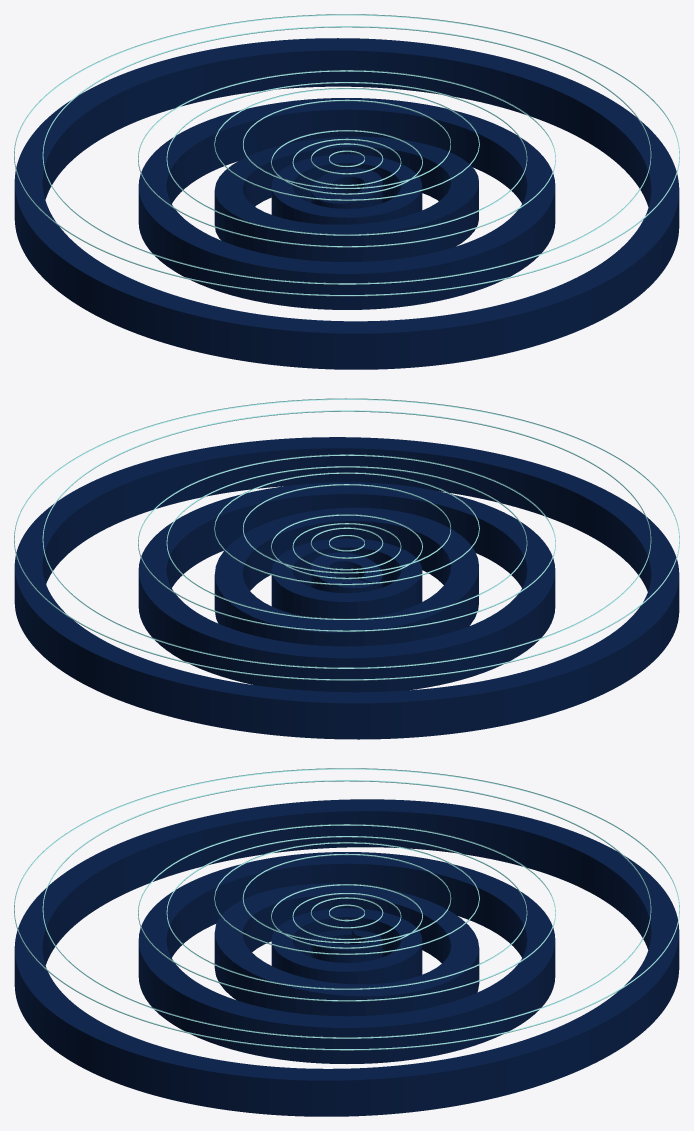
File: Ripple01.gltf
3 renders of one model, top to bottom at view 1: azimuth 30°, elevation 25°; view 2: azimuth 150°, elevation 25°; view 3: azimuth 270°, elevation 25°, orthographic.
Parts seen in each view (by area): view 1: Curve.004, Curve.003, Curve.002, Curve, Curve.005, Curve.006, Curve.001, Curve.007, Curve.009; view 2: Curve.004, Curve.003, Curve.002, Curve, Curve.005, Curve.006, Curve.001, Curve.007, Curve.009; view 3: Curve.004, Curve.003, Curve.002, Curve, Curve.005, Curve.006, Curve.007, Curve.001, Curve.009.
Boxes of the visible parts, left/top/right/bottom form: Curve.004: left=14, top=38, right=679, bottom=369; Curve.003: left=138, top=98, right=555, bottom=309; Curve.002: left=214, top=136, right=478, bottom=261; Curve: left=271, top=154, right=422, bottom=224; Curve.005: left=14, top=14, right=679, bottom=296; Curve.006: left=138, top=70, right=555, bottom=247; Curve.001: left=311, top=168, right=382, bottom=208; Curve.007: left=214, top=88, right=479, bottom=200; Curve.009: left=271, top=130, right=422, bottom=194; Curve.004: left=14, top=437, right=679, bottom=739; Curve.003: left=138, top=482, right=555, bottom=692; Curve.002: left=214, top=507, right=478, bottom=646; Curve: left=271, top=538, right=422, bottom=618; Curve.005: left=14, top=398, right=679, bottom=680; Curve.006: left=138, top=454, right=555, bottom=631; Curve.001: left=311, top=552, right=382, bottom=593; Curve.007: left=214, top=472, right=479, bottom=585; Curve.009: left=271, top=514, right=422, bottom=579; Curve.004: left=14, top=799, right=679, bottom=1116; Curve.003: left=138, top=852, right=555, bottom=1063; Curve.002: left=214, top=883, right=479, bottom=1016; Curve: left=271, top=908, right=422, bottom=984; Curve.005: left=14, top=768, right=679, bottom=1050; Curve.006: left=138, top=824, right=555, bottom=1001; Curve.007: left=214, top=842, right=479, bottom=954; Curve.001: left=311, top=929, right=382, bottom=962; Curve.009: left=271, top=884, right=422, bottom=948.
Bounding box in the file's own units: 6.97 × 1 × 6.97.
